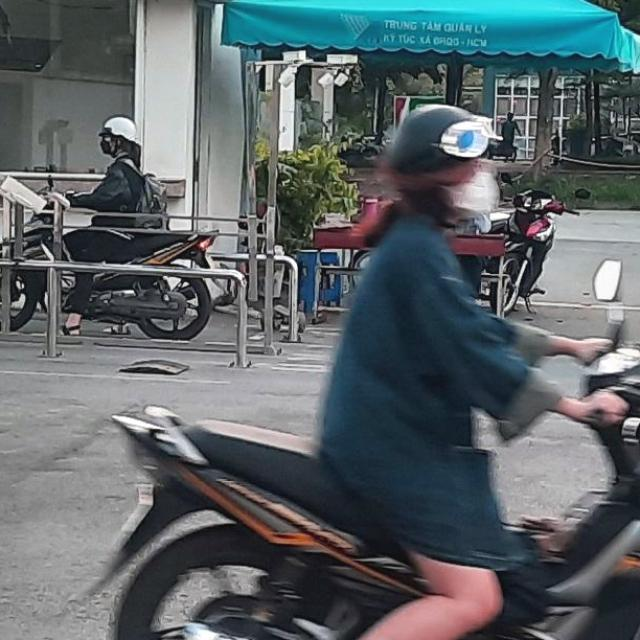Helmet: (385, 103, 508, 224), (95, 114, 143, 156)
